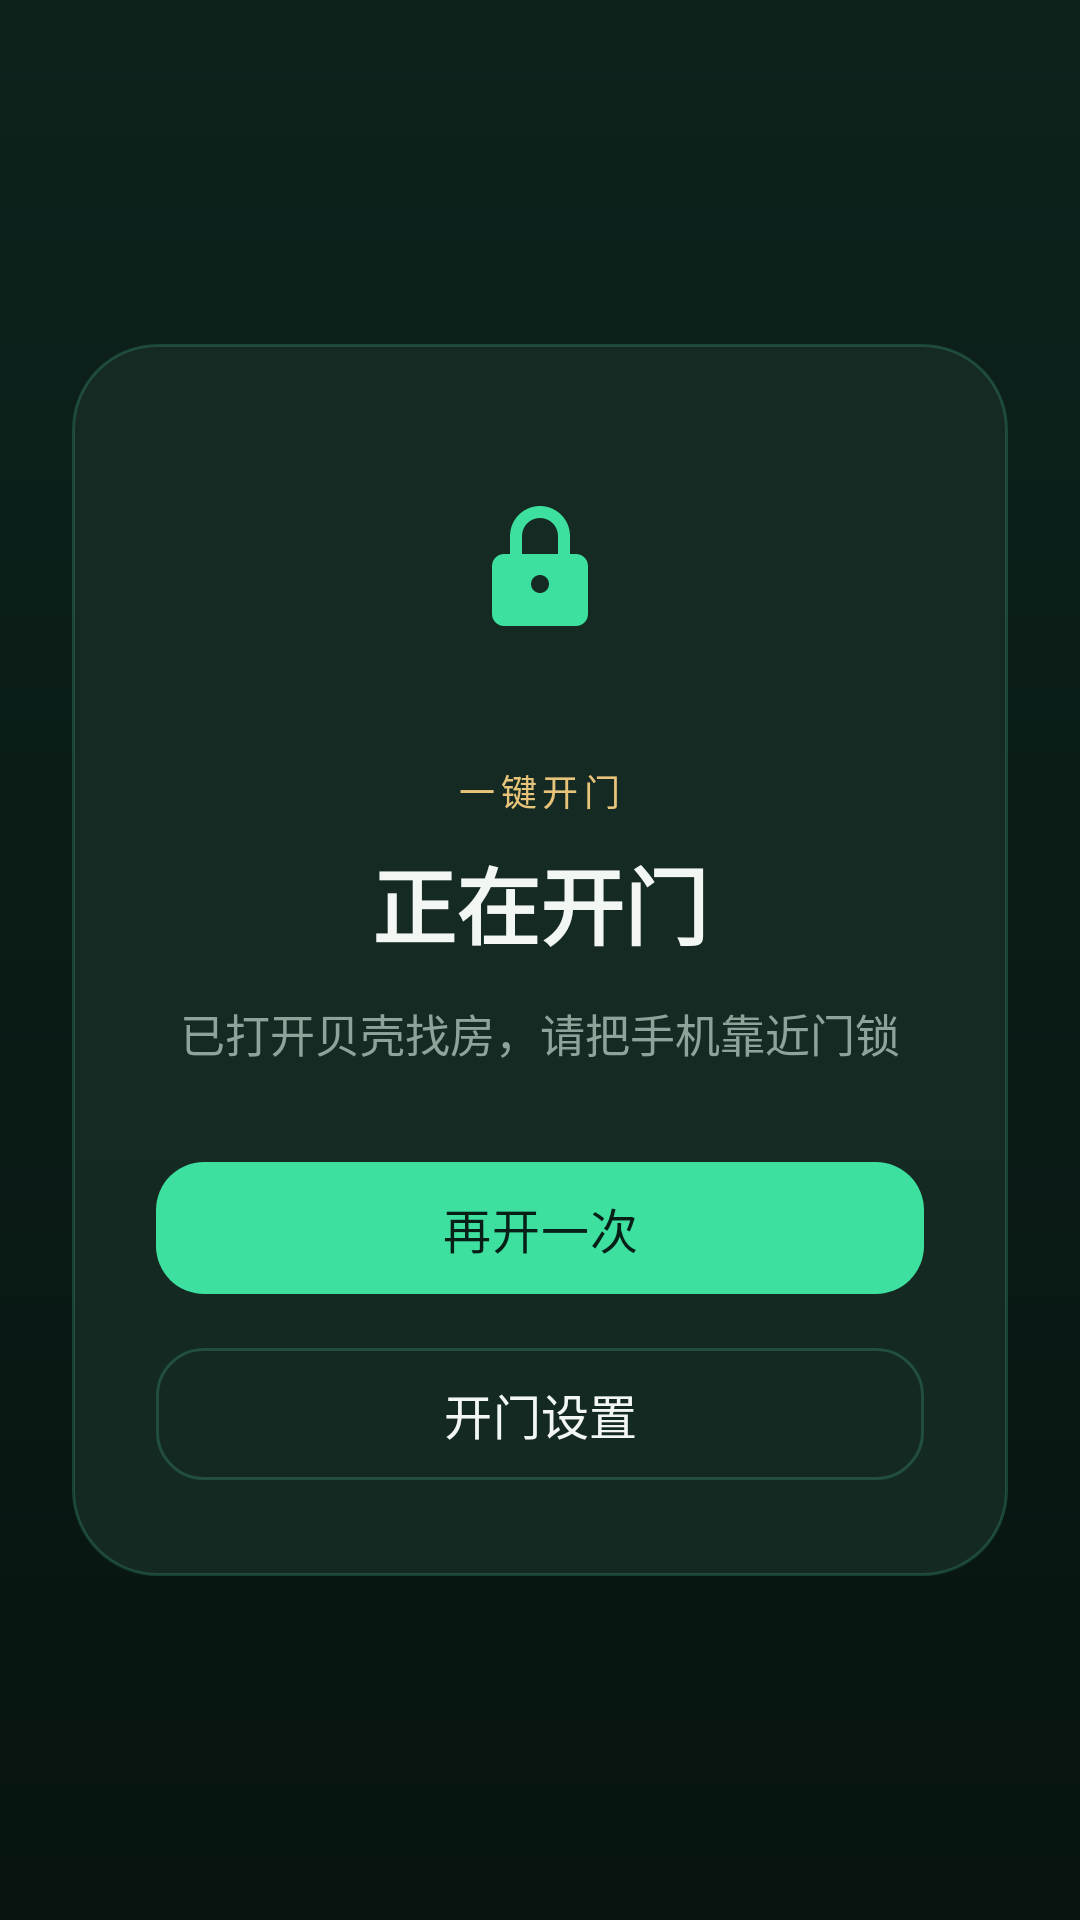

Icons on this 1080px x 1920px Android screen, each with its box as (x1, y1, x2, y2):
hero lock: (492, 506, 588, 626)
